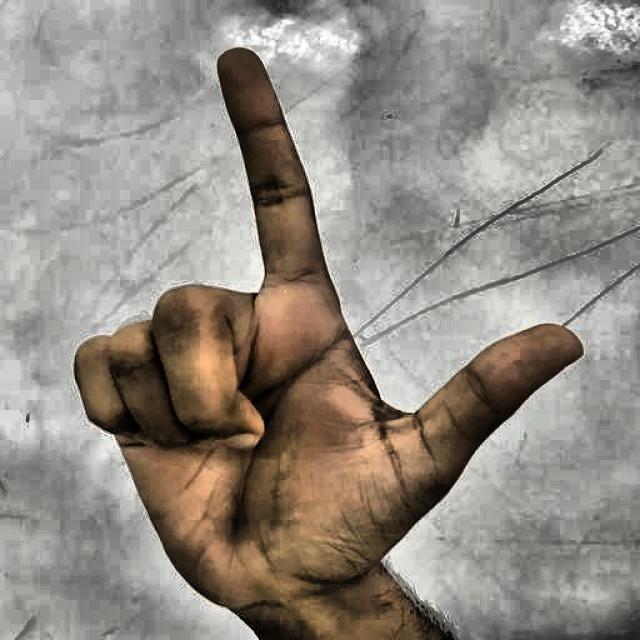La: (31, 21, 595, 640)
